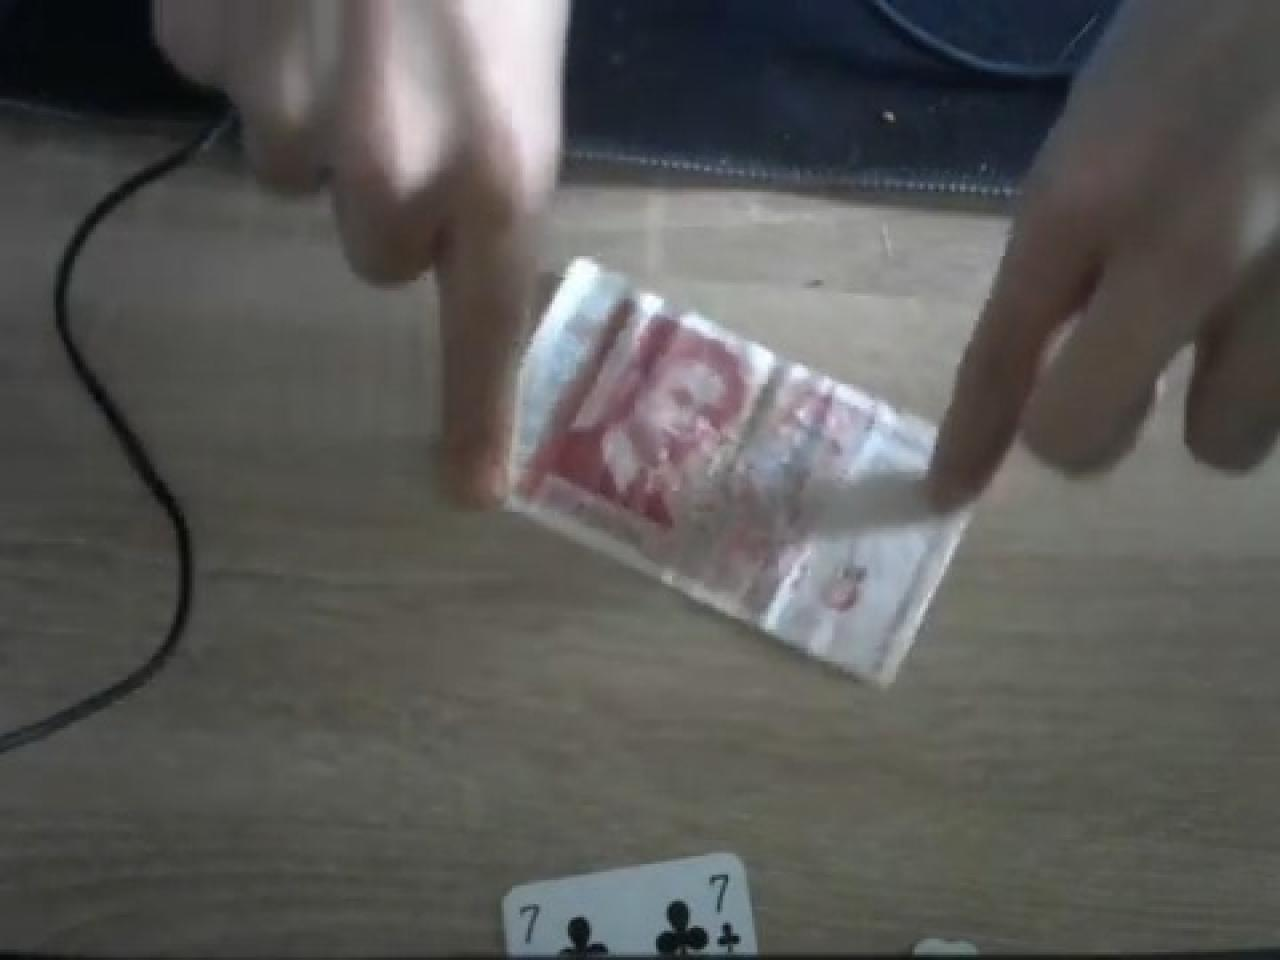5leva: (504, 259, 974, 688)
